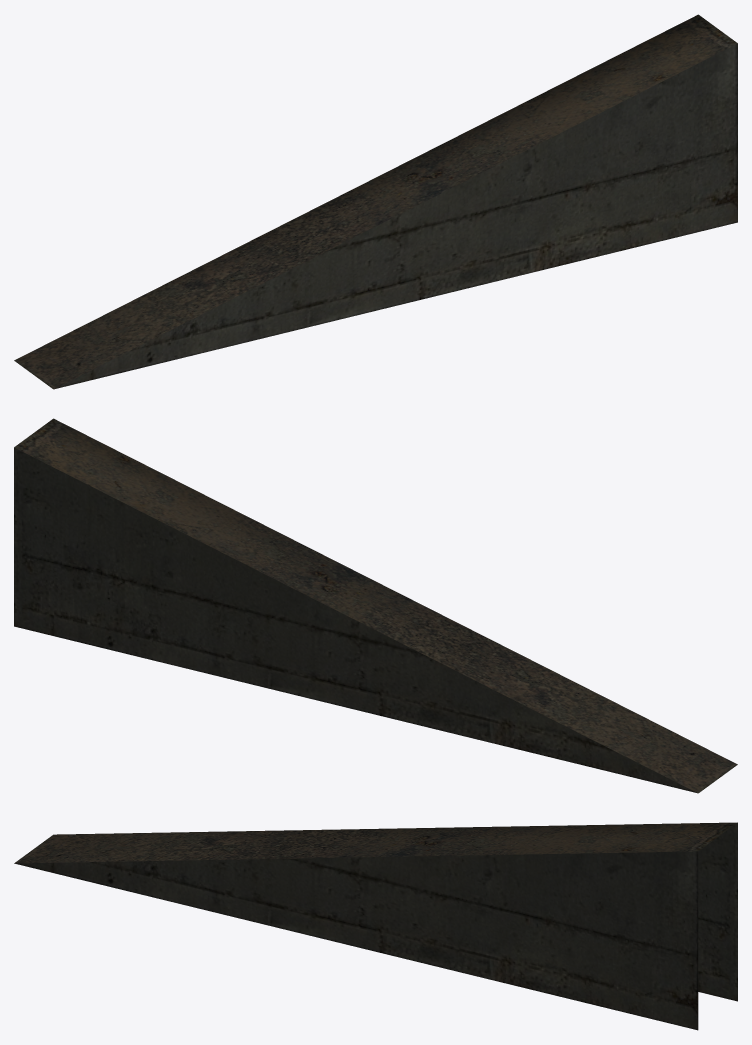
The model's file is wall_top_part_rg_1.fbx.
3 views of the same model, one above another, from view 1: azimuth 30°, elevation 25°; view 2: azimuth 150°, elevation 25°; view 3: azimuth 330°, elevation 25° (orthographic).
Parts seen in each view (by area): view 1: wall_top_part_rg_1; view 2: wall_top_part_rg_1; view 3: wall_top_part_rg_1.
Boxes of the visible parts, x1,y1,x2,y2 form: wall_top_part_rg_1: (14,14,737,389); wall_top_part_rg_1: (14,418,737,793); wall_top_part_rg_1: (14,822,737,1030).
Bounding box in the file's own units: 4 × 0.4 × 1.
